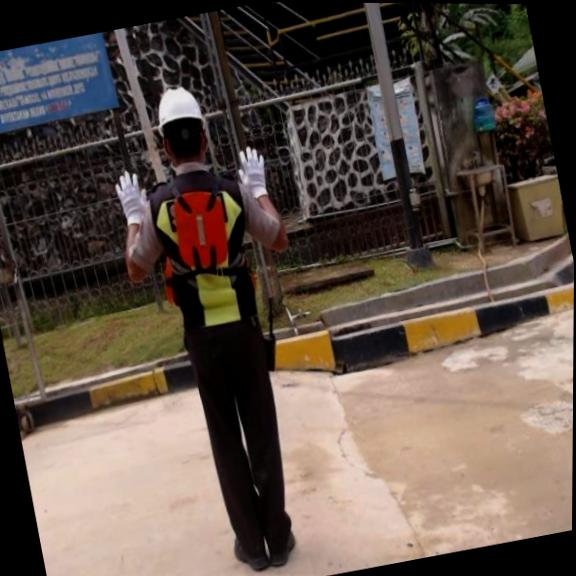safety_vest: (164, 185, 236, 277)
